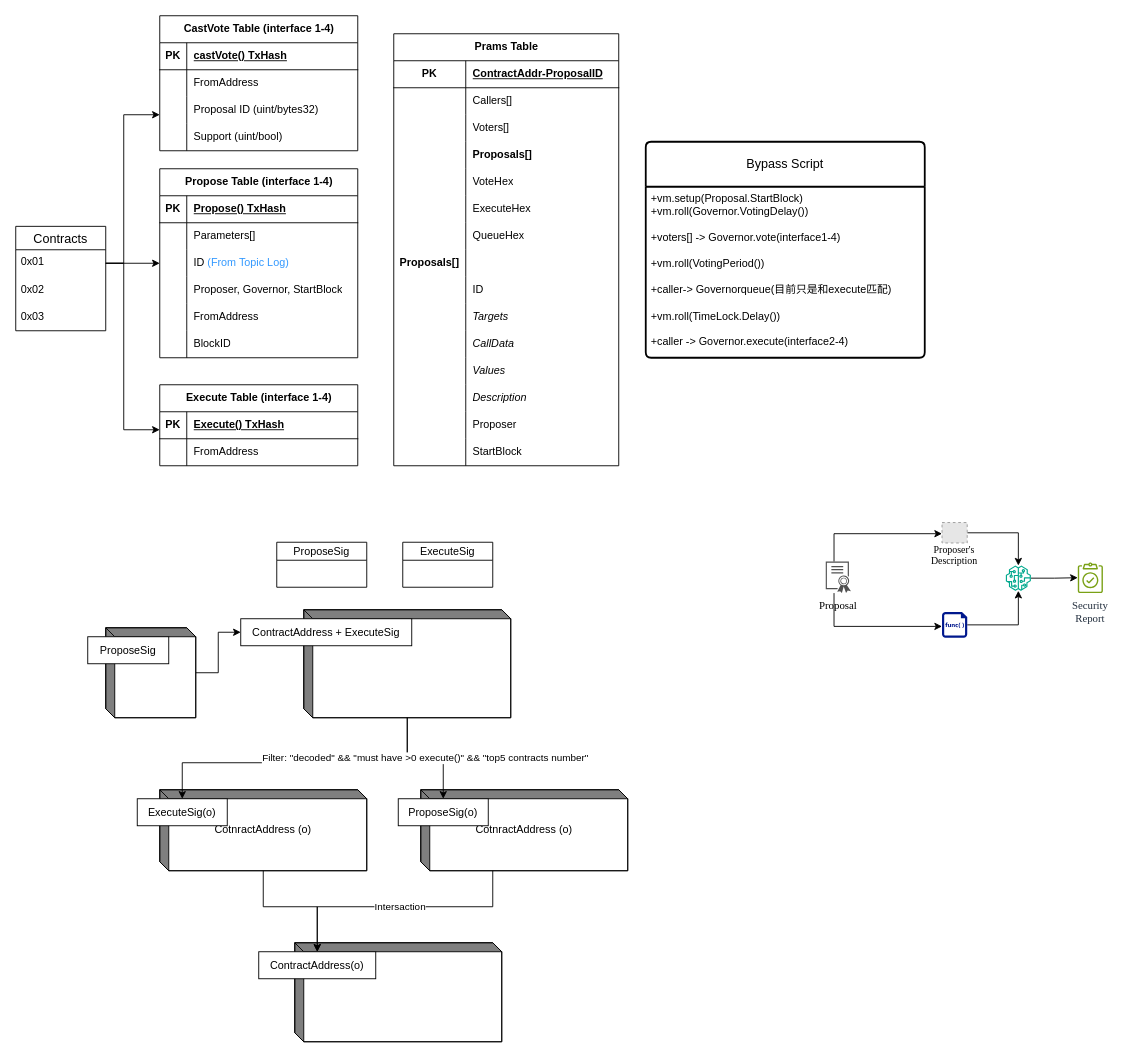
Image size: 1124x1058. Some labels were removed from this diagram. Grey dashed boxes stand in for pictures. Here are the shapes that lost their labels. From the top down, the centre of each, then its label:
At (1017,577): "Consistency Check".
At (954,624): "Simulated Trace".
At (150,672): "ToAddress".
At (407,663): "ContractAddress -> Execute: TxHash ContractAddress -> Propose: TxHash".
At (398,992): "TxHash: - Log".
